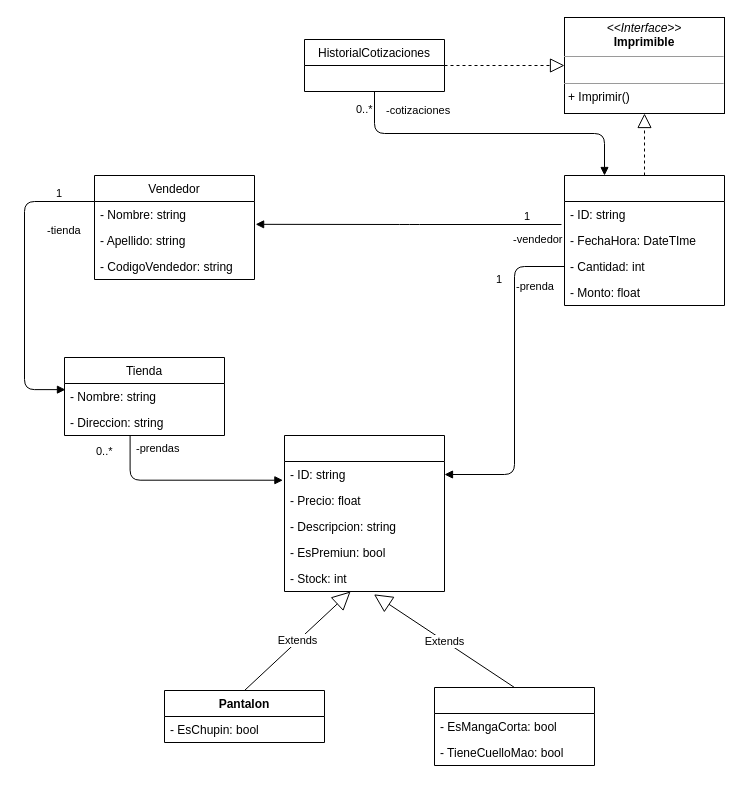
Image size: 742x786. Some labels were removed from this diagram. Here are the shapes that lost their labels. From the top down, the box of each, then its label:
(564, 174, 724, 306): Cotizacion
(284, 434, 444, 592): Prenda
(434, 686, 594, 766): Camisa
